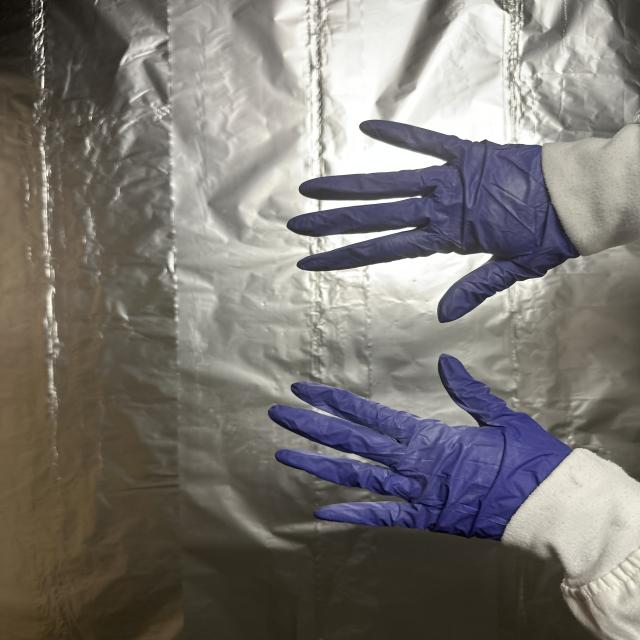gloves_contaminated: (288, 121, 578, 322), (270, 355, 569, 540)
